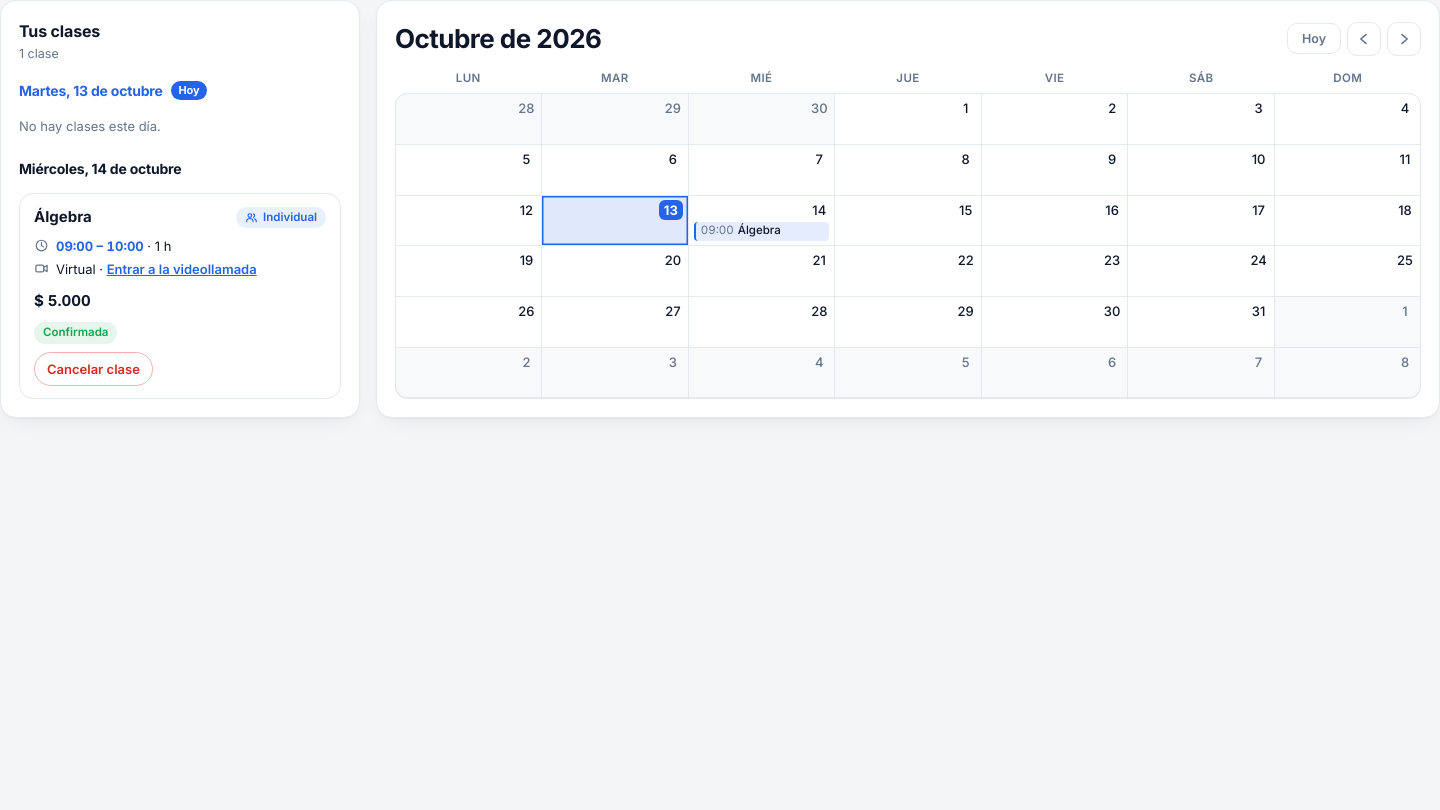
Scenario: CalendarPage › el docente ve al alumno en el detalle de la clase, no en la tarjeta
Expected: the text "1 clase" is shown, [19,46,59,61]
Expected: the text "Sofía Ramírez" is not shown
// Una clase de mañana: todavía no empezó, así que el detalle muestra al alumno.
Click the button "Álgebra" at (63, 218), box [34,206,92,229]
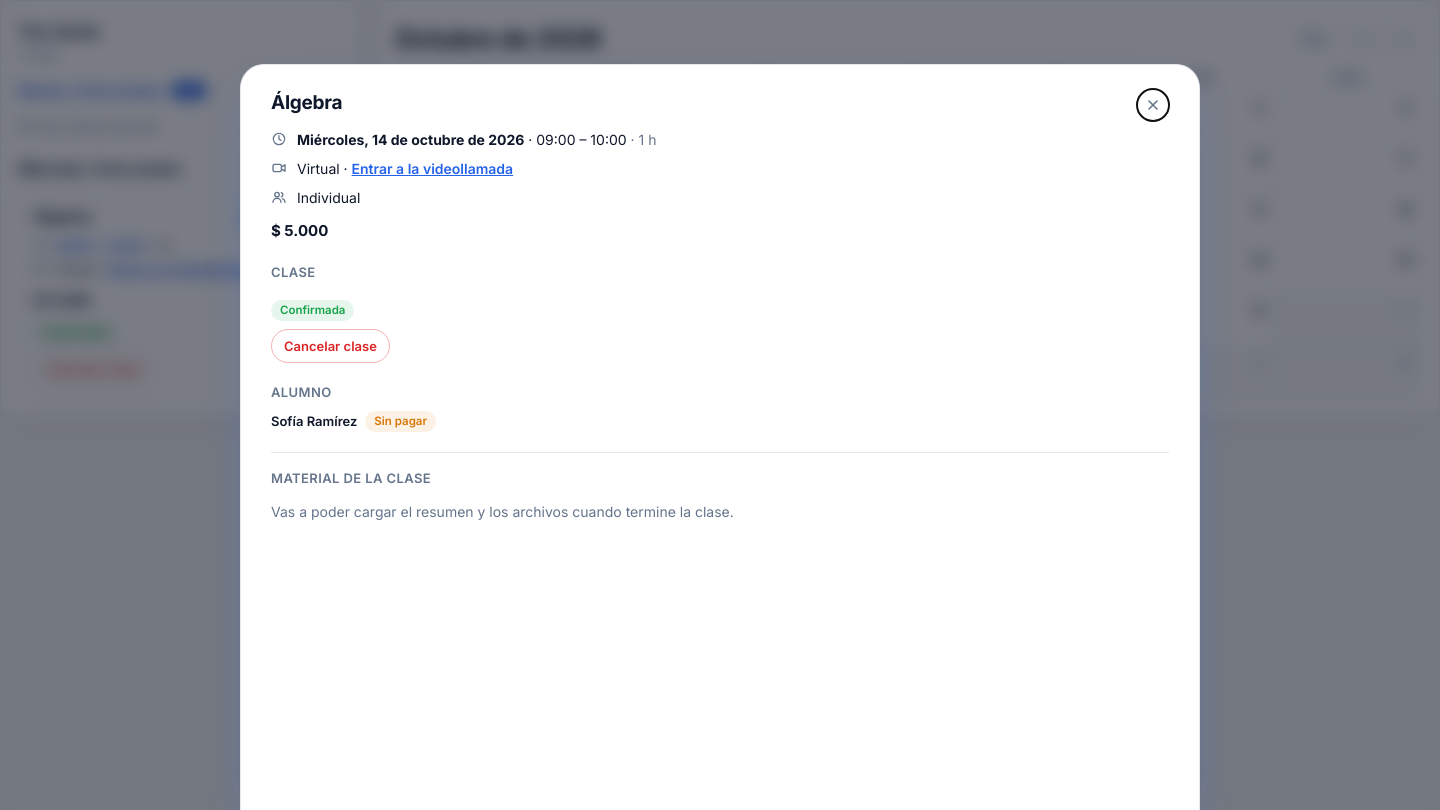
Expected: the dialog "Álgebra" shows "Sofía Ramírez", [271,413,357,429]
